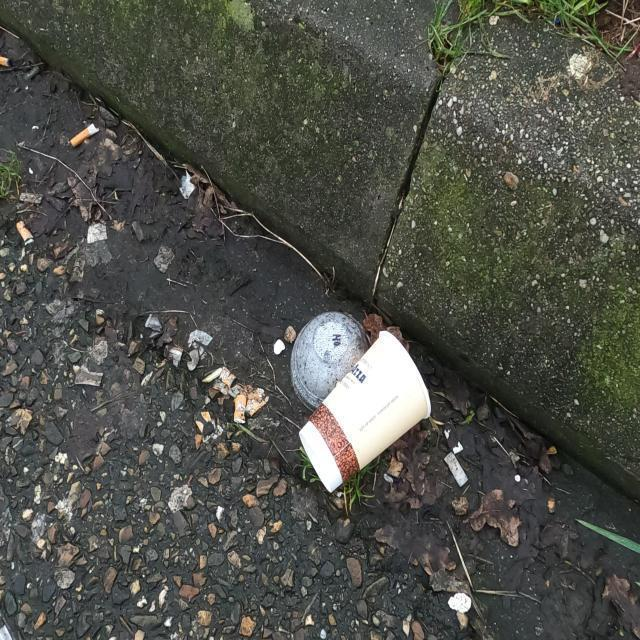Cup: (296, 328, 434, 496)
Paper: (290, 308, 372, 413)
